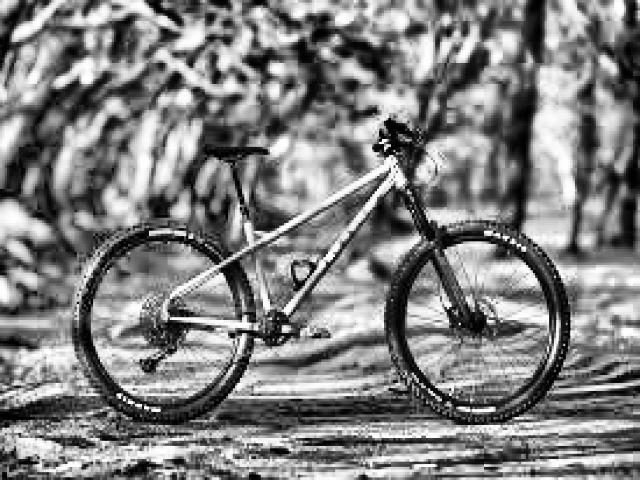cranks_set: (256, 307, 327, 350)
rear_derailleur: (137, 318, 177, 373)
saddle: (200, 140, 270, 164)
wheel: (384, 223, 572, 426), (71, 222, 258, 421)
